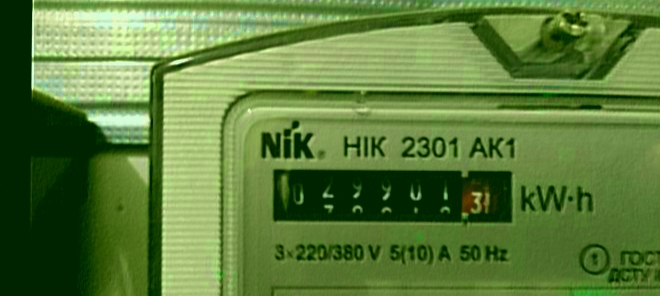0: (287, 180, 306, 207), (407, 175, 423, 204)
1: (438, 174, 451, 203)
2: (318, 174, 336, 201)
3: (466, 190, 484, 216)
9: (348, 174, 364, 202), (379, 176, 392, 203)
screen: (262, 160, 523, 234)
